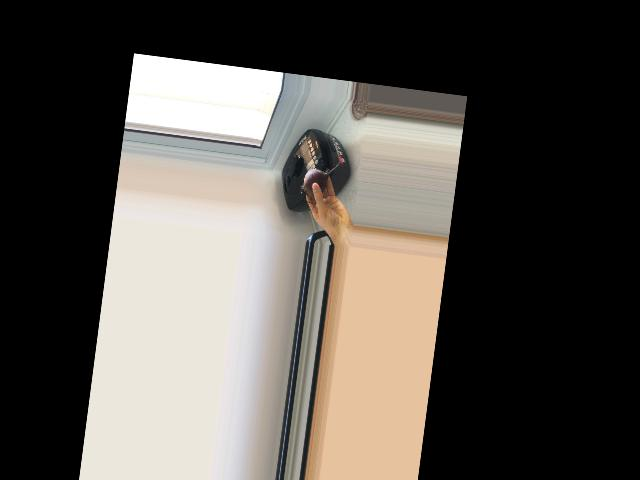beet: (299, 157, 340, 205)
